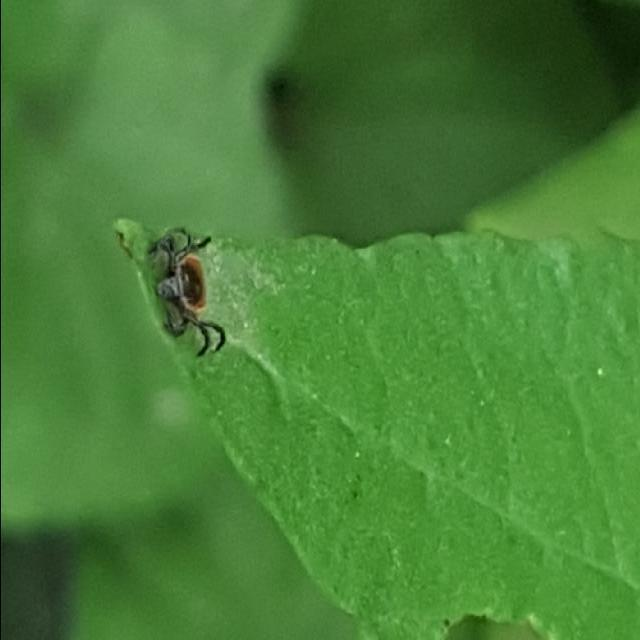Ixodes Ricinus-F: (147, 226, 225, 357)
